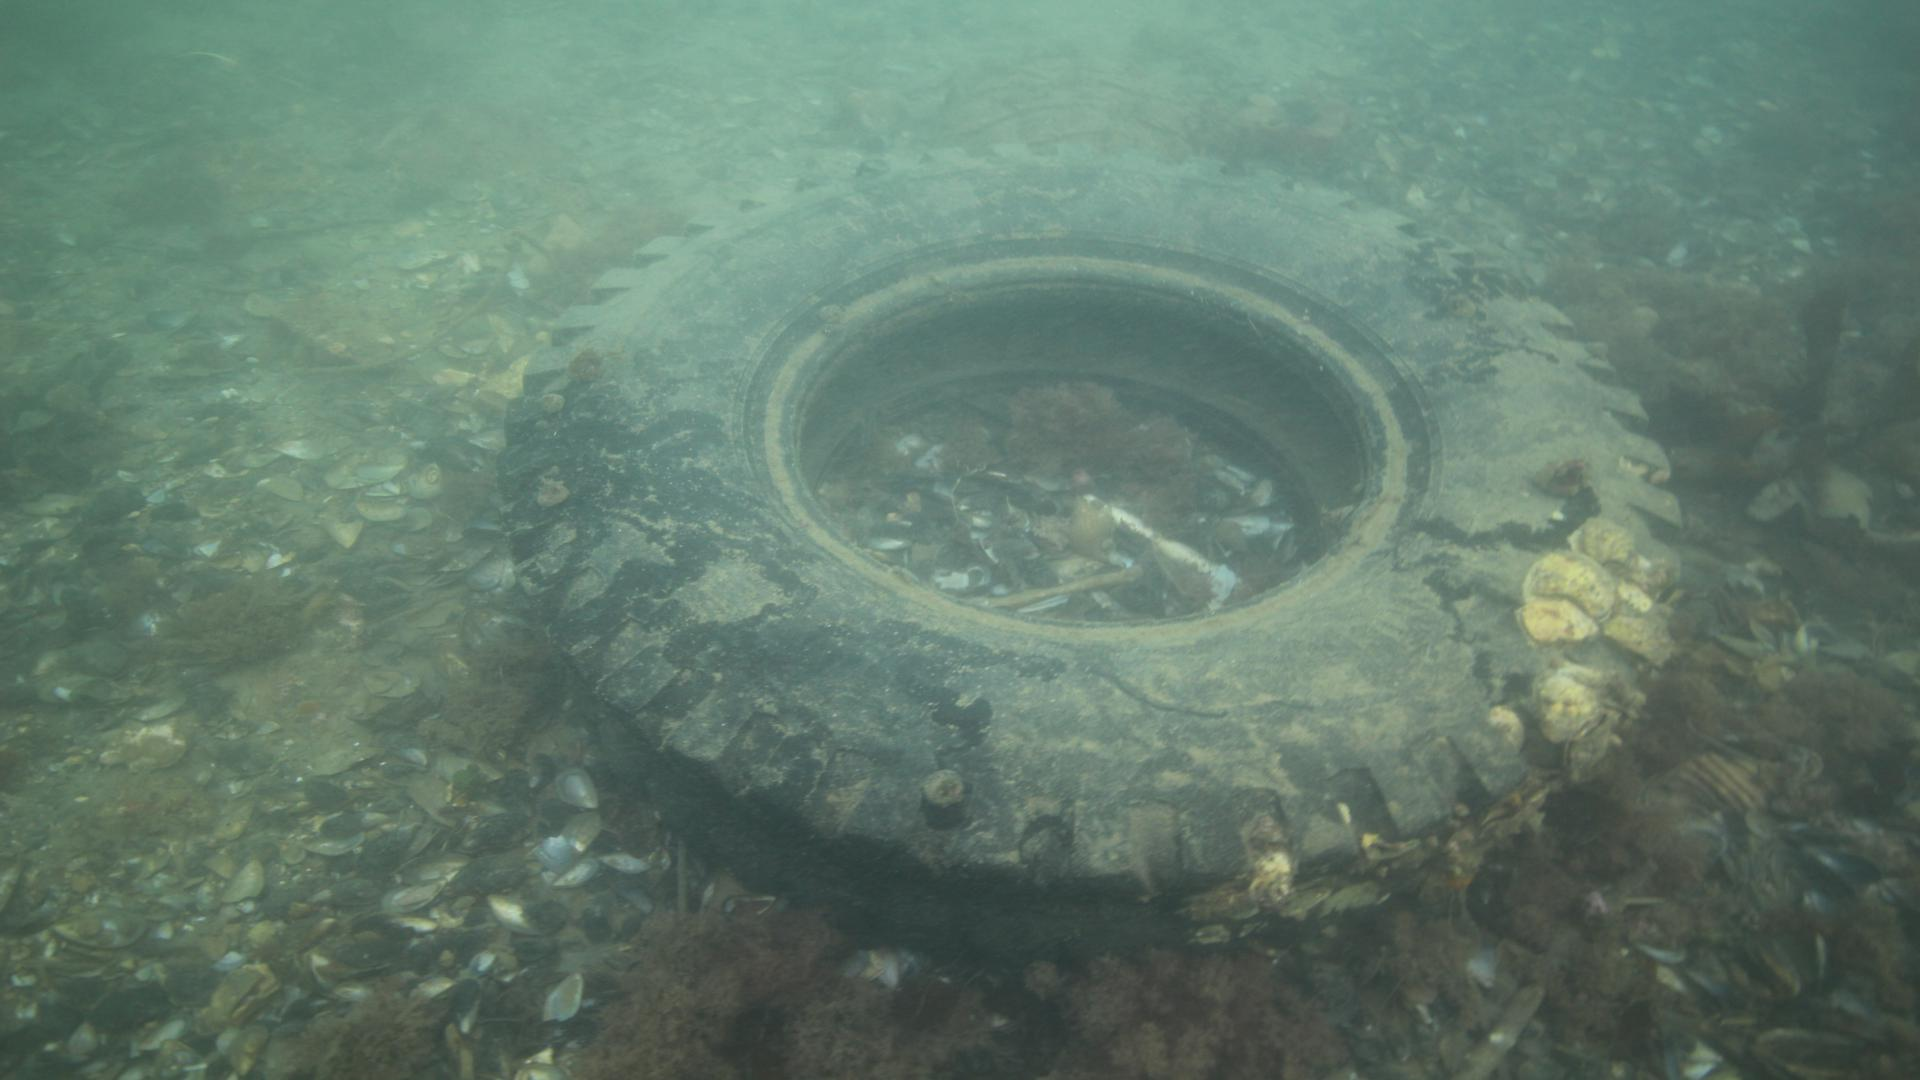tire: (502, 138, 1684, 967)
